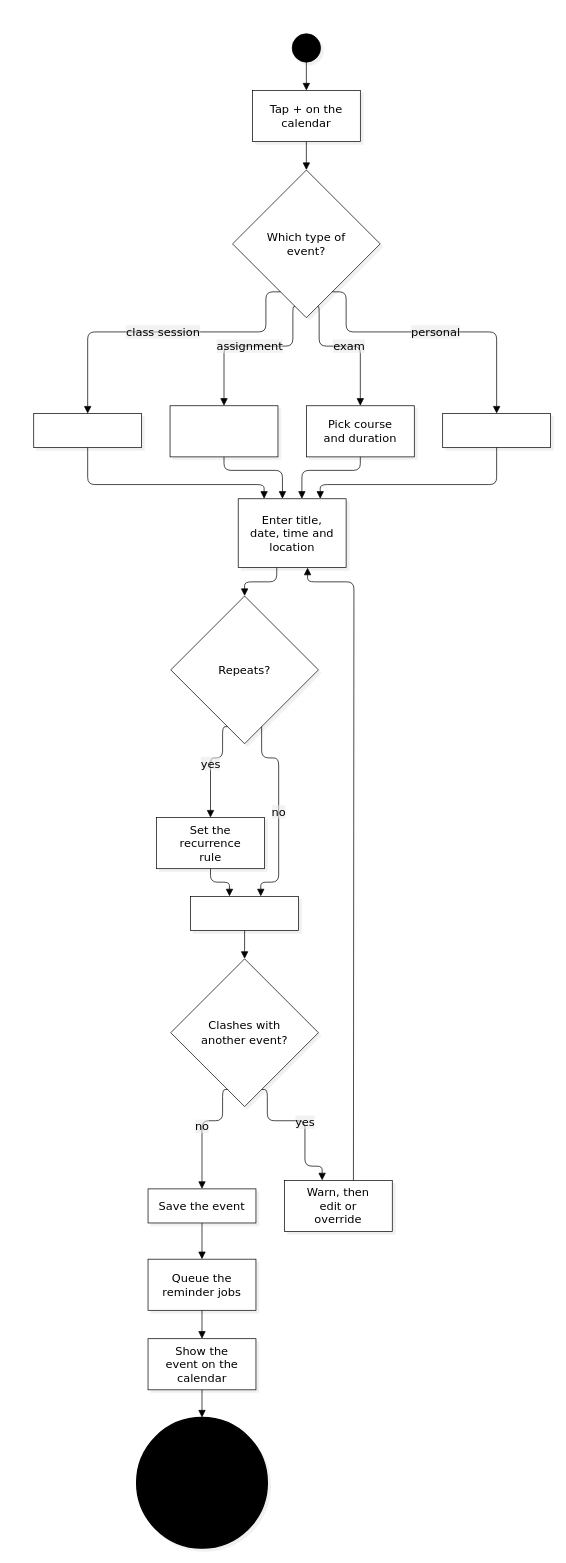
This 566x1563 diagram has some shape labels left out. Here are the shapes that lost their labels. From the top down, the centre of each, then its label:
At point 88,431: "Pick the course".
At point 225,432: "Pick course, due date and weight".
At point 497,431: "Pick a category".
At point 245,914: "Set reminders".
At point 203,1483: "End".
